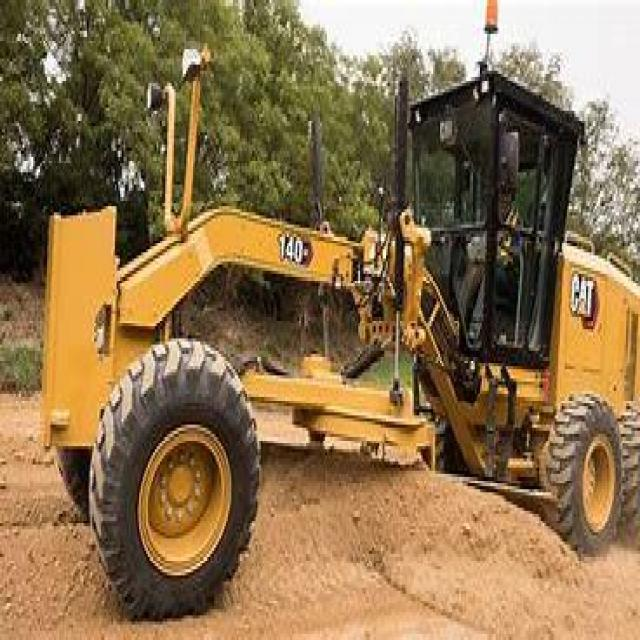Grader: (40, 19, 638, 622)
